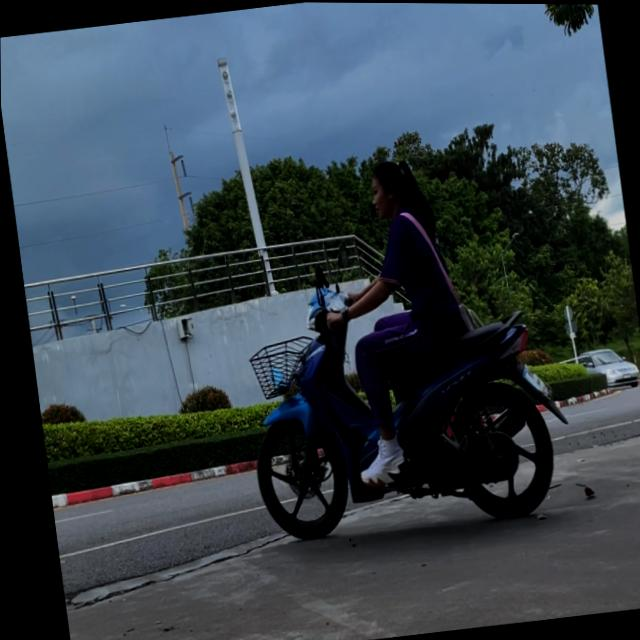seatbelt: (367, 157, 412, 221)
